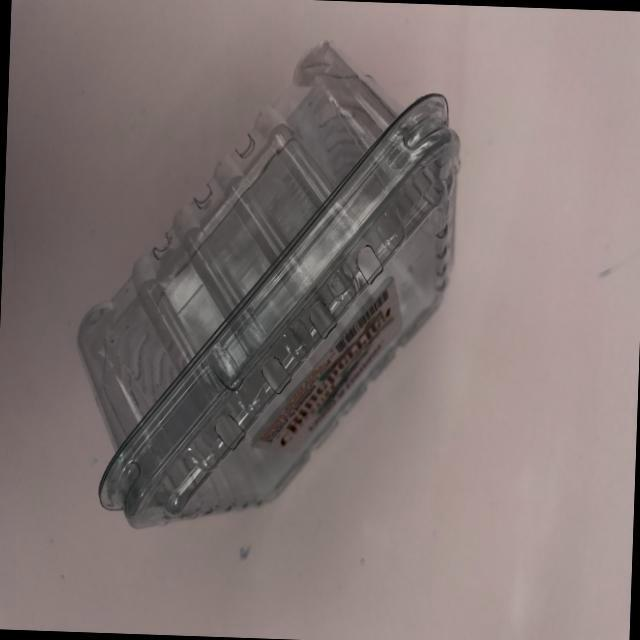plastic: (60, 18, 482, 575)
